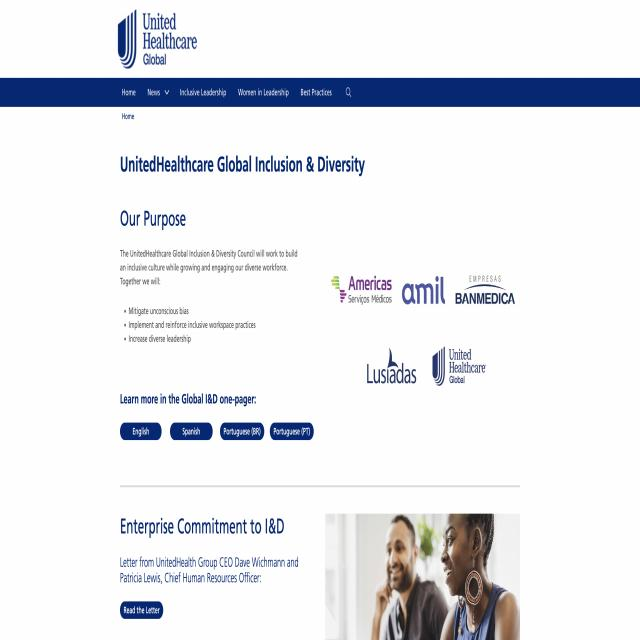Logo: (115, 1, 199, 76)
Navigation: (114, 76, 342, 109)
